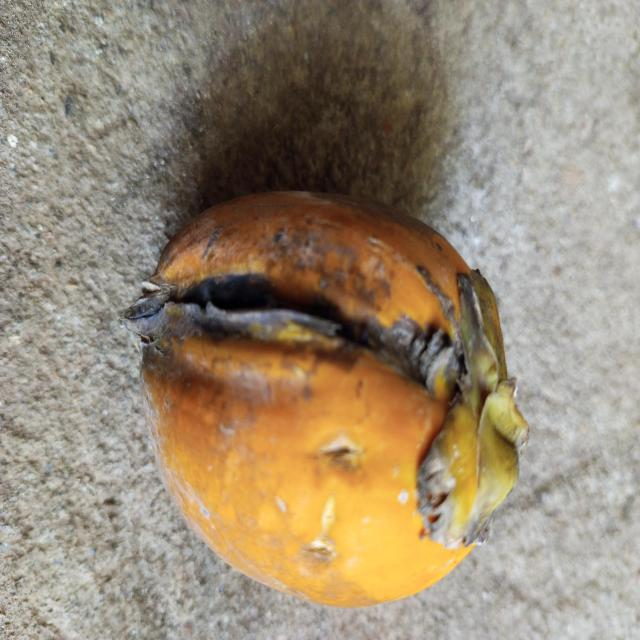damaged: (121, 191, 529, 611)
